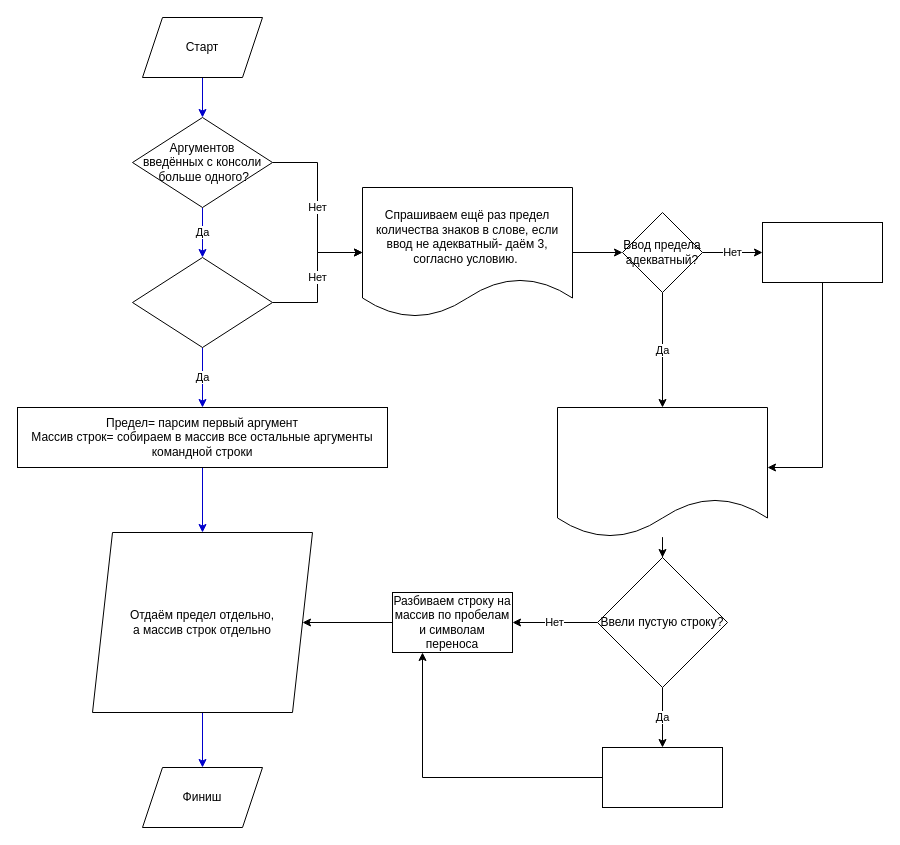
The diagram is 900 pixels wide and 845 high, and some of its shapes have lost their labels. Each missing label, with the centre of its shape:
"Открываем README.MD и собираем его в одну строку" belongs at [662,777].
"Первый аргумент- число?" belongs at [202,302].
"Предел=3" belongs at [822,252].
"Предлагаем ввести массив строк с клавиатуры" belongs at [662,472].
